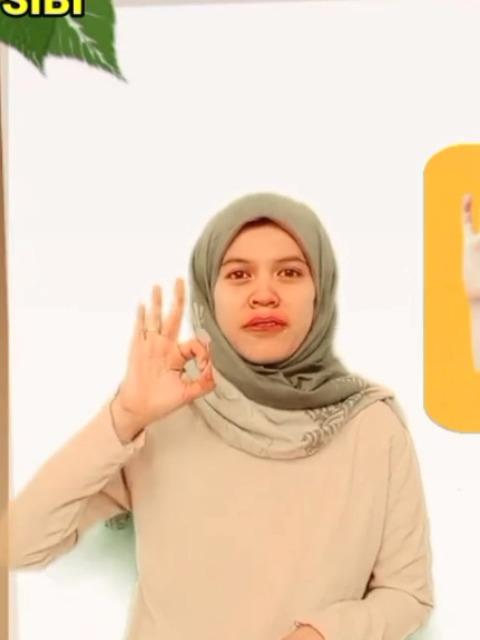F: (126, 276, 214, 424)
